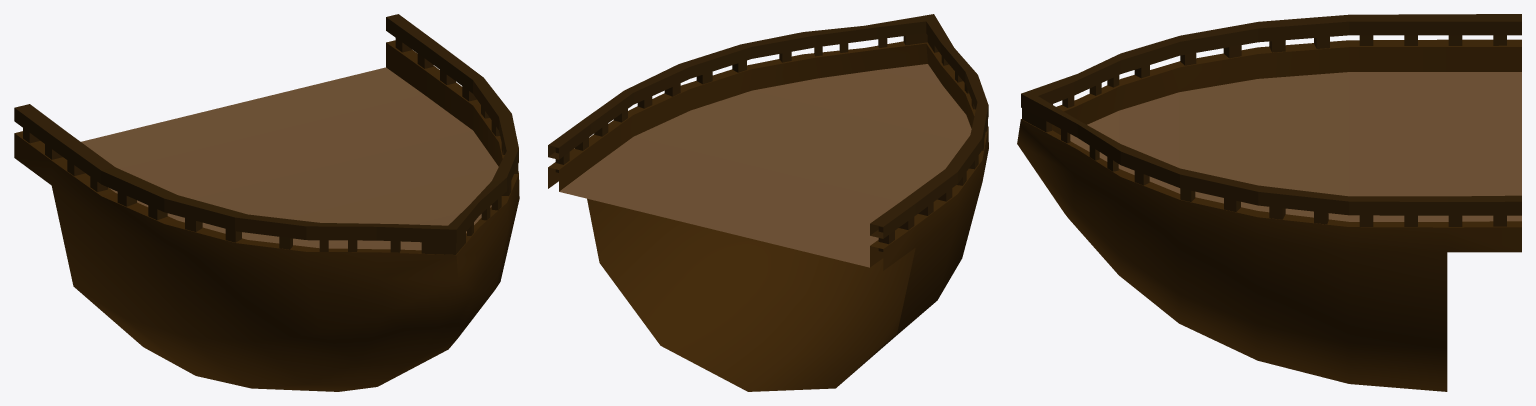
The model's file is Ship_Front 1.fbx.
3 renders of one model, left to right at view 1: azimuth 30°, elevation 25°; view 2: azimuth 150°, elevation 25°; view 3: azimuth 270°, elevation 25°, orthographic. The views are drawn at different scales.
Parts seen in each view (by area): view 1: pCube65; view 2: pCube65; view 3: pCube65.
Boxes of the visible parts, x1=… form: pCube65: x1=14, y1=14, x2=519, y2=391; pCube65: x1=548, y1=14, x2=988, y2=391; pCube65: x1=1017, y1=14, x2=1521, y2=391.
Bounding box in the file's own units: 10.87 × 7.49 × 12.35.
